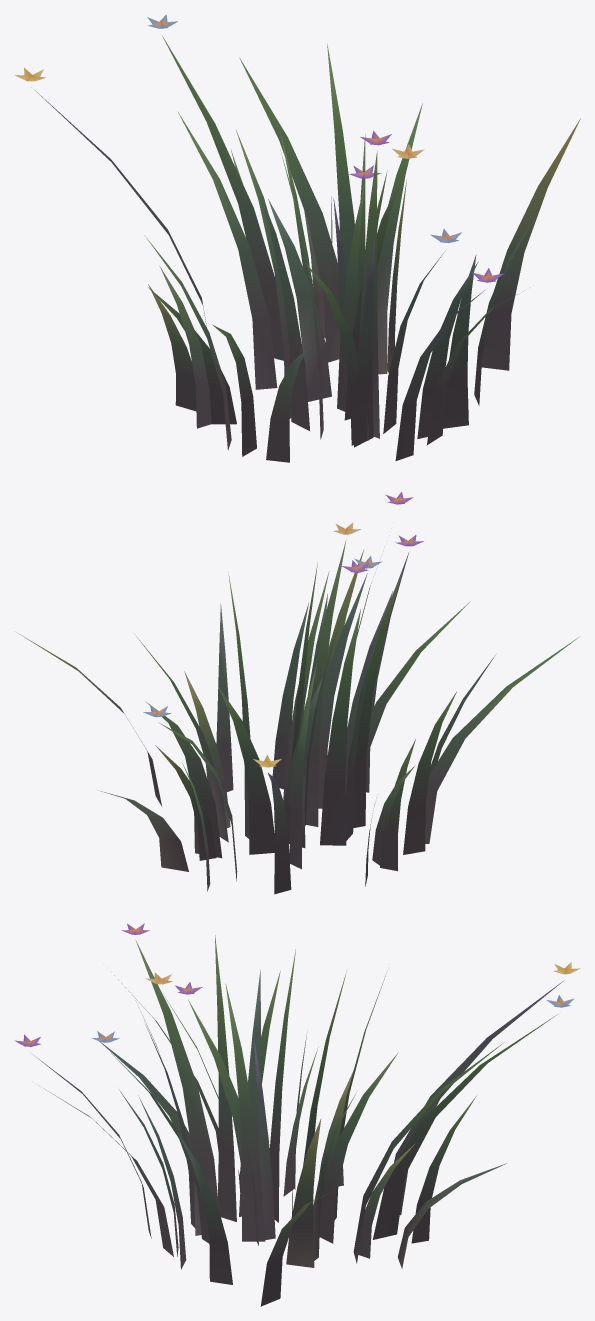
The model's file is cimen_cicekli.glb.
The picture shows the model from 3 angles, top to bottom: view 1: azimuth 30°, elevation 25°; view 2: azimuth 150°, elevation 25°; view 3: azimuth 270°, elevation 25°; orthographic projection. The views are drawn at different scales.
Parts seen in each view (by area): view 1: cimen_cicekli_LOD0; view 2: cimen_cicekli_LOD0; view 3: cimen_cicekli_LOD0.
Part boxes in pixels (x1,y1,x2,y2): cimen_cicekli_LOD0: (14, 14, 580, 462); cimen_cicekli_LOD0: (16, 492, 580, 894); cimen_cicekli_LOD0: (14, 923, 580, 1306).
Size of what is drawn, in the model's own units: 0.7305 by 0.4626 by 0.8148.
